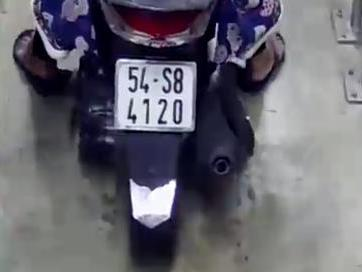num_plate: (115, 58, 195, 133)
